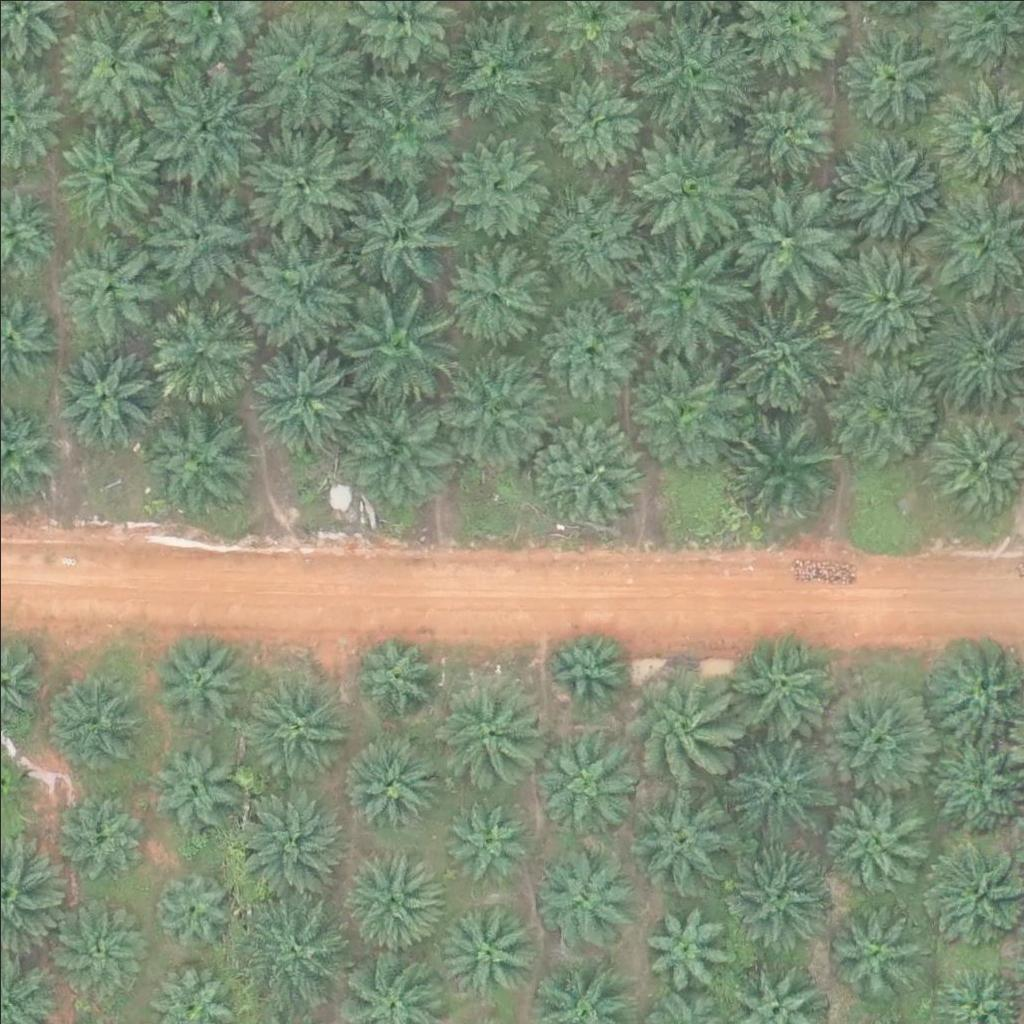Kelapa_Sawit: (615, 657, 740, 783), (141, 404, 254, 518), (243, 340, 356, 454), (243, 131, 356, 245), (344, 71, 457, 185), (627, 130, 740, 244), (730, 186, 843, 300), (58, 14, 171, 127), (149, 77, 262, 190), (145, 291, 258, 404), (247, 227, 360, 340), (250, 13, 363, 126), (337, 290, 450, 403), (439, 16, 552, 129), (530, 409, 643, 522), (632, 348, 745, 461), (829, 352, 942, 465), (828, 248, 941, 361), (835, 16, 948, 129), (723, 833, 836, 946), (723, 732, 836, 845), (727, 625, 840, 738), (57, 224, 169, 338), (143, 180, 255, 294), (434, 351, 546, 465), (242, 668, 354, 782), (344, 177, 456, 290), (340, 389, 452, 502), (540, 181, 652, 294), (630, 233, 742, 346), (634, 13, 746, 126), (721, 412, 833, 525), (728, 301, 840, 414), (835, 123, 947, 236), (239, 891, 351, 1004), (231, 779, 343, 892), (427, 673, 539, 786), (628, 781, 740, 894), (819, 677, 931, 790), (56, 341, 156, 442), (58, 121, 158, 222), (444, 248, 544, 349), (547, 75, 647, 176), (542, 307, 642, 408), (43, 668, 143, 769), (149, 624, 249, 725), (338, 733, 438, 834), (437, 897, 537, 998), (536, 848, 636, 949), (826, 787, 926, 888), (445, 138, 545, 238), (738, 80, 838, 180), (339, 851, 439, 951), (531, 726, 631, 826), (54, 906, 142, 994), (149, 861, 237, 949), (349, 623, 437, 711), (438, 794, 525, 883), (57, 790, 144, 878), (150, 744, 237, 832), (543, 623, 630, 711), (642, 899, 729, 987), (831, 904, 918, 992)
